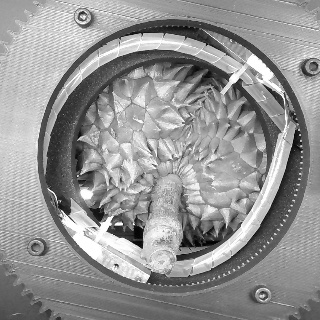base: (149, 170, 188, 201)
end: (148, 249, 176, 275)
